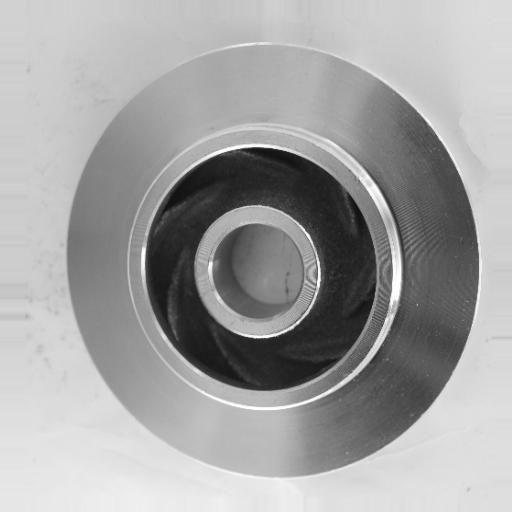polished_casting: (63, 42, 481, 479)
